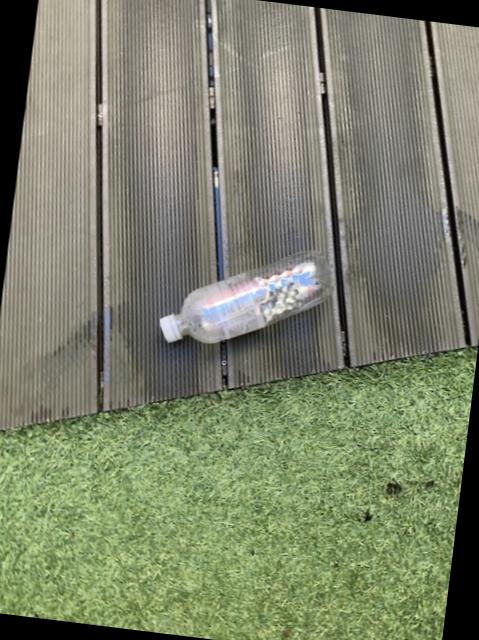plastic: (158, 249, 331, 341)
